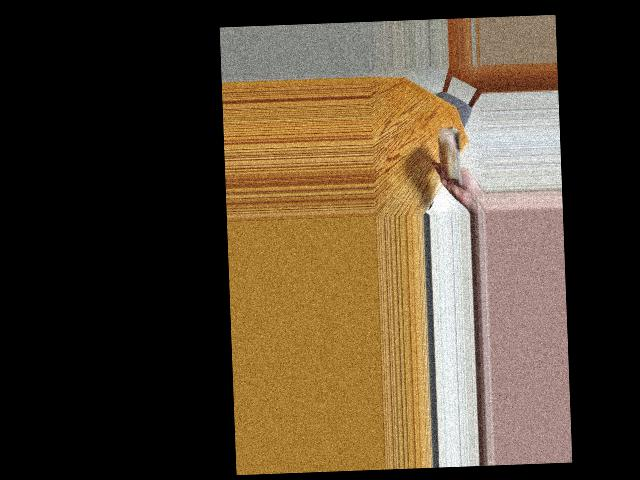cheese: (435, 130, 472, 182)
